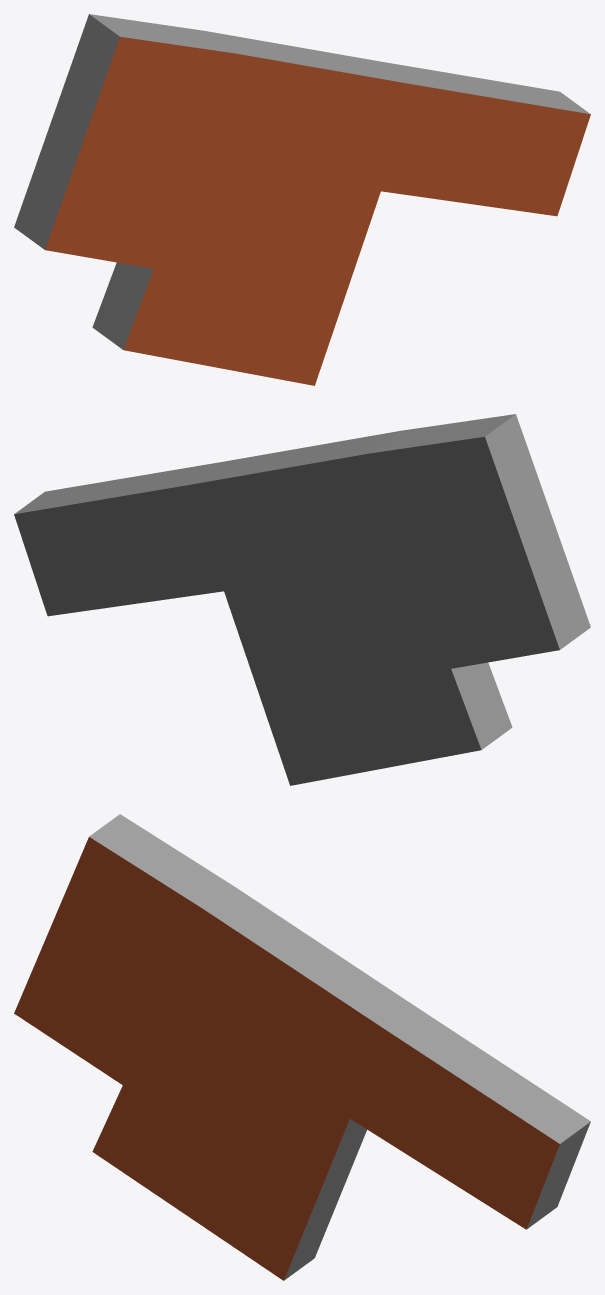
Rendered from construction_4285_assumed_A_Casa_h6m.obj.
3 views of the same model, one above another, from view 1: azimuth 30°, elevation 25°; view 2: azimuth 150°, elevation 25°; view 3: azimuth 330°, elevation 25° (orthographic).
Parts seen in each view (by area): view 1: construction_4285_assumed_A_Casa; view 2: construction_4285_assumed_A_Casa; view 3: construction_4285_assumed_A_Casa.
Boxes of the visible parts, box(x1,y1,x2,y2) form: construction_4285_assumed_A_Casa: box(14, 14, 590, 385); construction_4285_assumed_A_Casa: box(14, 414, 590, 785); construction_4285_assumed_A_Casa: box(14, 814, 590, 1280).
Size of the model in its own units: 60.97 by 42.33 by 6.
